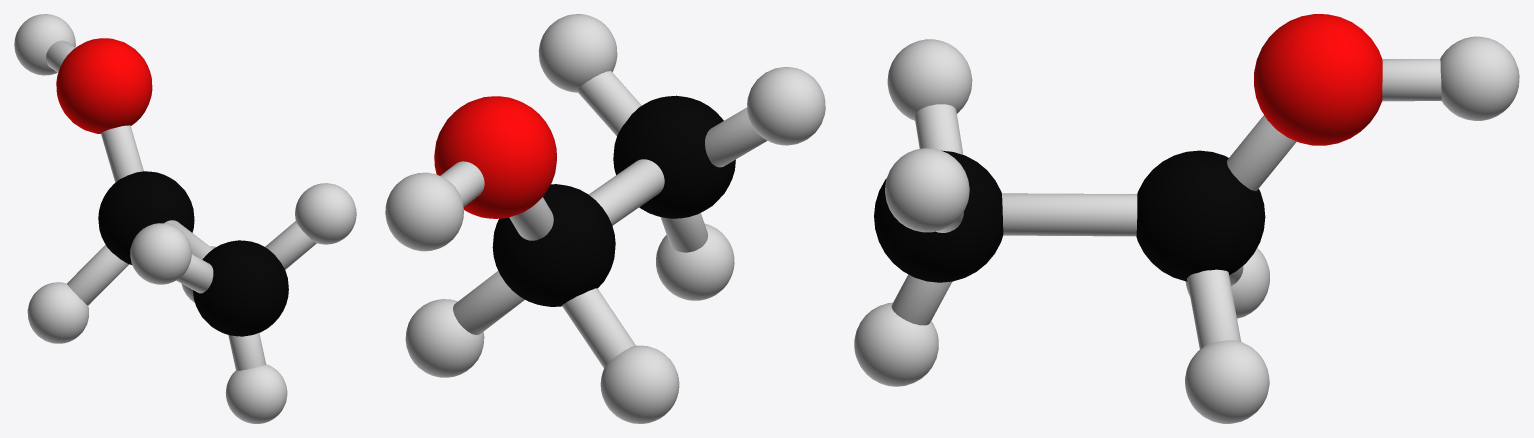
The picture shows the model from 3 angles, left to right: view 1: azimuth 30°, elevation 25°; view 2: azimuth 150°, elevation 25°; view 3: azimuth 270°, elevation 25°; orthographic projection. The views are drawn at different scales.
Parts seen in each view (by area): view 1: 구체.008, 구체, 구체.002, 구체.004, 구체.001, 구체.005, 구체.003, 구체.007, 실린더.004, 실린더.006, 실린더.001, 실린더.003 (+3 smaller); view 2: 구체.008, 구체.002, 구체, 구체.007, 구체.004, 구체.005, 구체.001, 구체.006, 구체.003, 실린더.004, 실린더.002, 실린더.005 (+5 smaller); view 3: 구체.008, 구체.002, 구체, 실린더.002, 구체.001, 구체.006, 구체.007, 구체.003, 구체.004, 실린더.005, 실린더.006, 실린더.007 (+3 smaller).
Boxes of the visible parts, bbox=[...] form: 구체.008: bbox=[56, 38, 152, 133]; 구체: bbox=[193, 240, 288, 336]; 구체.002: bbox=[98, 171, 194, 264]; 구체.004: bbox=[130, 223, 191, 284]; 구체.001: bbox=[295, 183, 356, 244]; 구체.005: bbox=[27, 282, 88, 343]; 구체.003: bbox=[225, 364, 287, 423]; 구체.007: bbox=[14, 14, 75, 75]; 실린더.004: bbox=[67, 245, 128, 305]; 실린더.006: bbox=[101, 125, 143, 182]; 실린더.001: bbox=[265, 221, 316, 269]; 실린더.003: bbox=[228, 333, 265, 370]; 구체.008: bbox=[434, 96, 556, 218]; 구체.002: bbox=[492, 184, 615, 306]; 구체: bbox=[613, 95, 735, 218]; 구체.007: bbox=[385, 172, 463, 251]; 구체.004: bbox=[747, 67, 825, 145]; 구체.005: bbox=[600, 345, 679, 423]; 구체.001: bbox=[538, 14, 617, 92]; 구체.006: bbox=[405, 299, 484, 377]; 구체.003: bbox=[656, 223, 734, 300]; 실린더.004: bbox=[562, 288, 635, 368]; 실린더.002: bbox=[589, 159, 664, 225]; 실린더.005: bbox=[453, 271, 524, 334]; 구체.008: bbox=[1254, 14, 1382, 145]; 구체.002: bbox=[1136, 150, 1265, 281]; 구체: bbox=[874, 150, 1003, 282]; 실린더.002: bbox=[1002, 193, 1137, 236]; 구체.001: bbox=[885, 148, 969, 232]; 구체.006: bbox=[1185, 340, 1269, 423]; 구체.007: bbox=[1440, 36, 1519, 120]; 구체.003: bbox=[854, 302, 938, 386]; 구체.004: bbox=[887, 39, 972, 120]; 실린더.005: bbox=[1187, 269, 1241, 349]; 실린더.006: bbox=[1227, 115, 1296, 190]; 실린더.007: bbox=[1382, 59, 1441, 101].
Bounding box in the file's own units: 650 × 759 × 1257.
